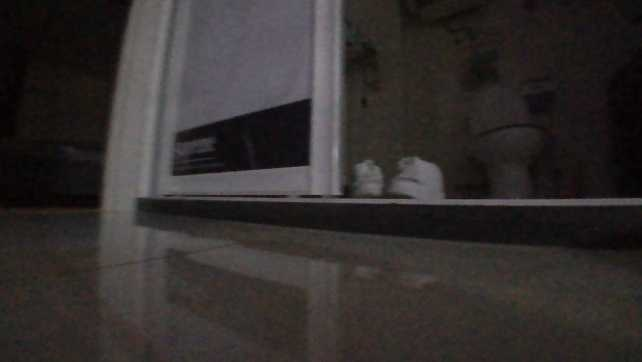door_sill: (131, 191, 640, 255)
toilet: (458, 76, 546, 204)
